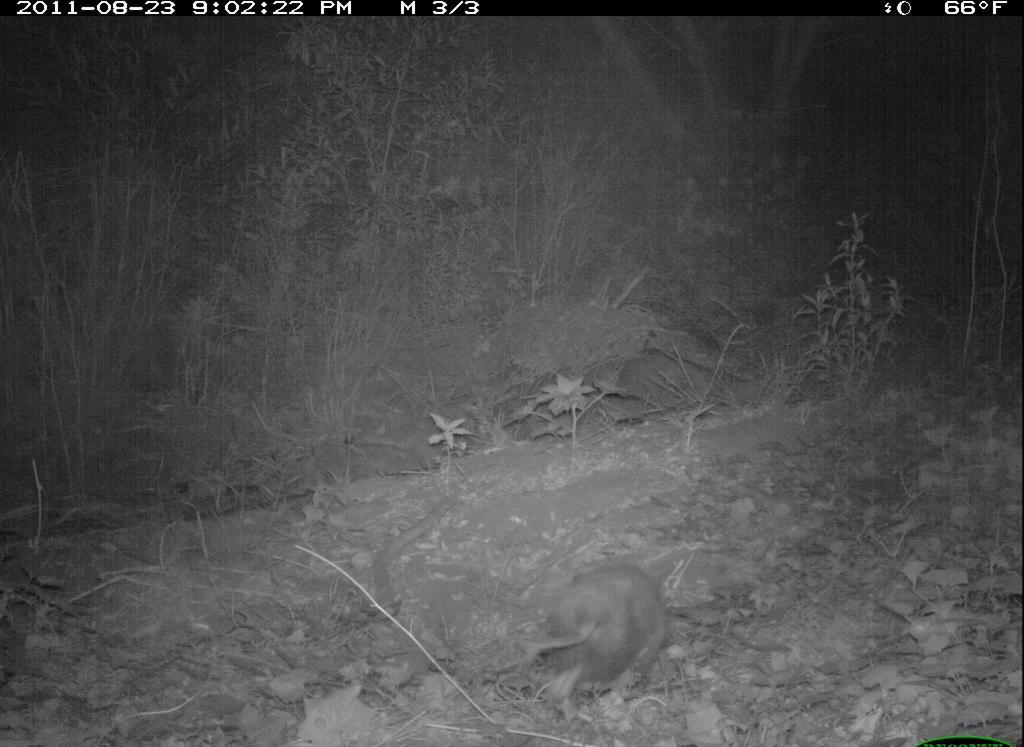opossum: (539, 556, 688, 705)
